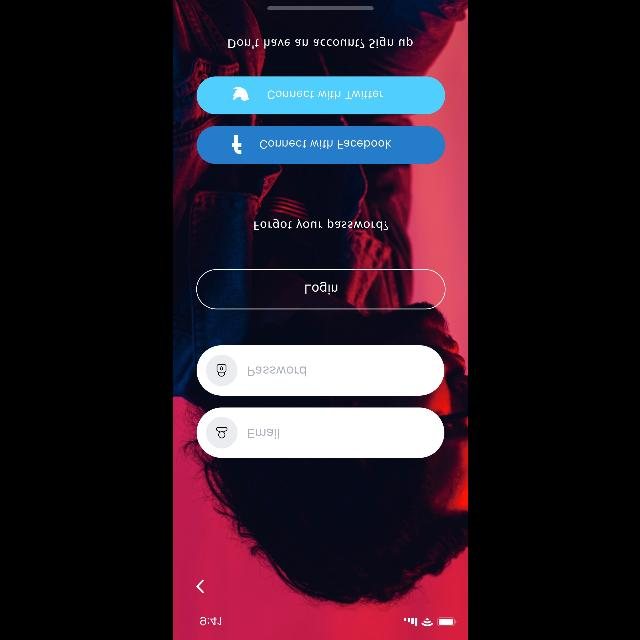backgroundimage: (172, 1, 468, 640)
icon: (205, 354, 237, 386), (205, 418, 237, 448), (195, 579, 202, 593)
input: (196, 408, 444, 458), (196, 345, 444, 395)
text: (228, 37, 412, 49), (254, 219, 388, 231), (247, 366, 305, 376), (248, 429, 278, 439)
textbutton: (195, 269, 445, 309), (196, 126, 444, 164), (196, 76, 444, 114)
uppertaskbar: (199, 616, 456, 626)
